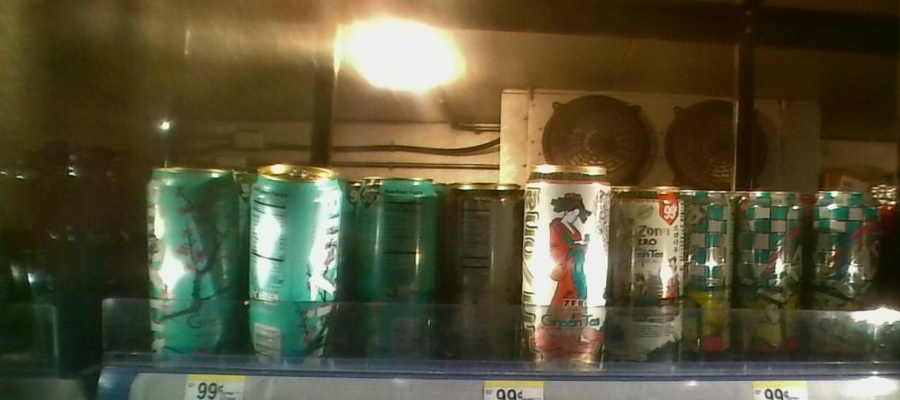bottle: (244, 146, 345, 361), (522, 163, 615, 377), (143, 158, 242, 358), (355, 165, 439, 361), (445, 176, 520, 368), (809, 184, 879, 379), (619, 176, 685, 382), (741, 174, 804, 375), (687, 183, 739, 368)
